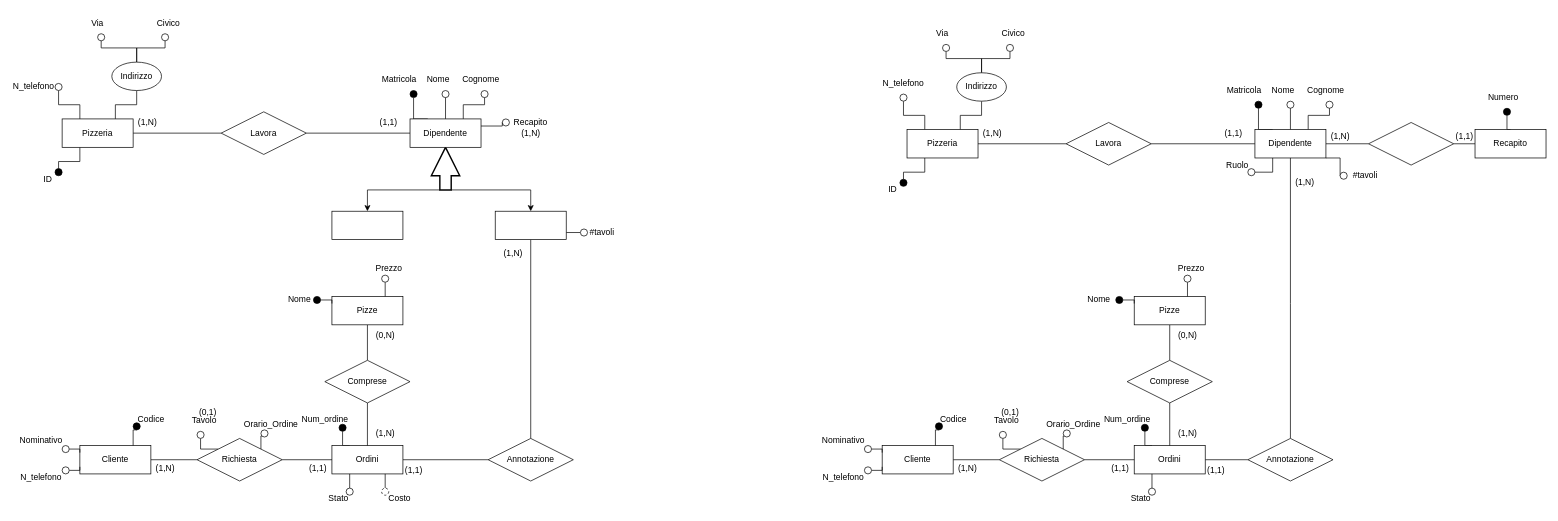
Image size: 1558x521. Some labels were removed from this diagram. The shapes that lost their labels are listed below. From the top down, each one's centre as x and y in pixels, then its label:
At point (1411, 143): "Ha".
At point (367, 225): "Pizzaiolo".
At point (530, 225): "Cameriere".
